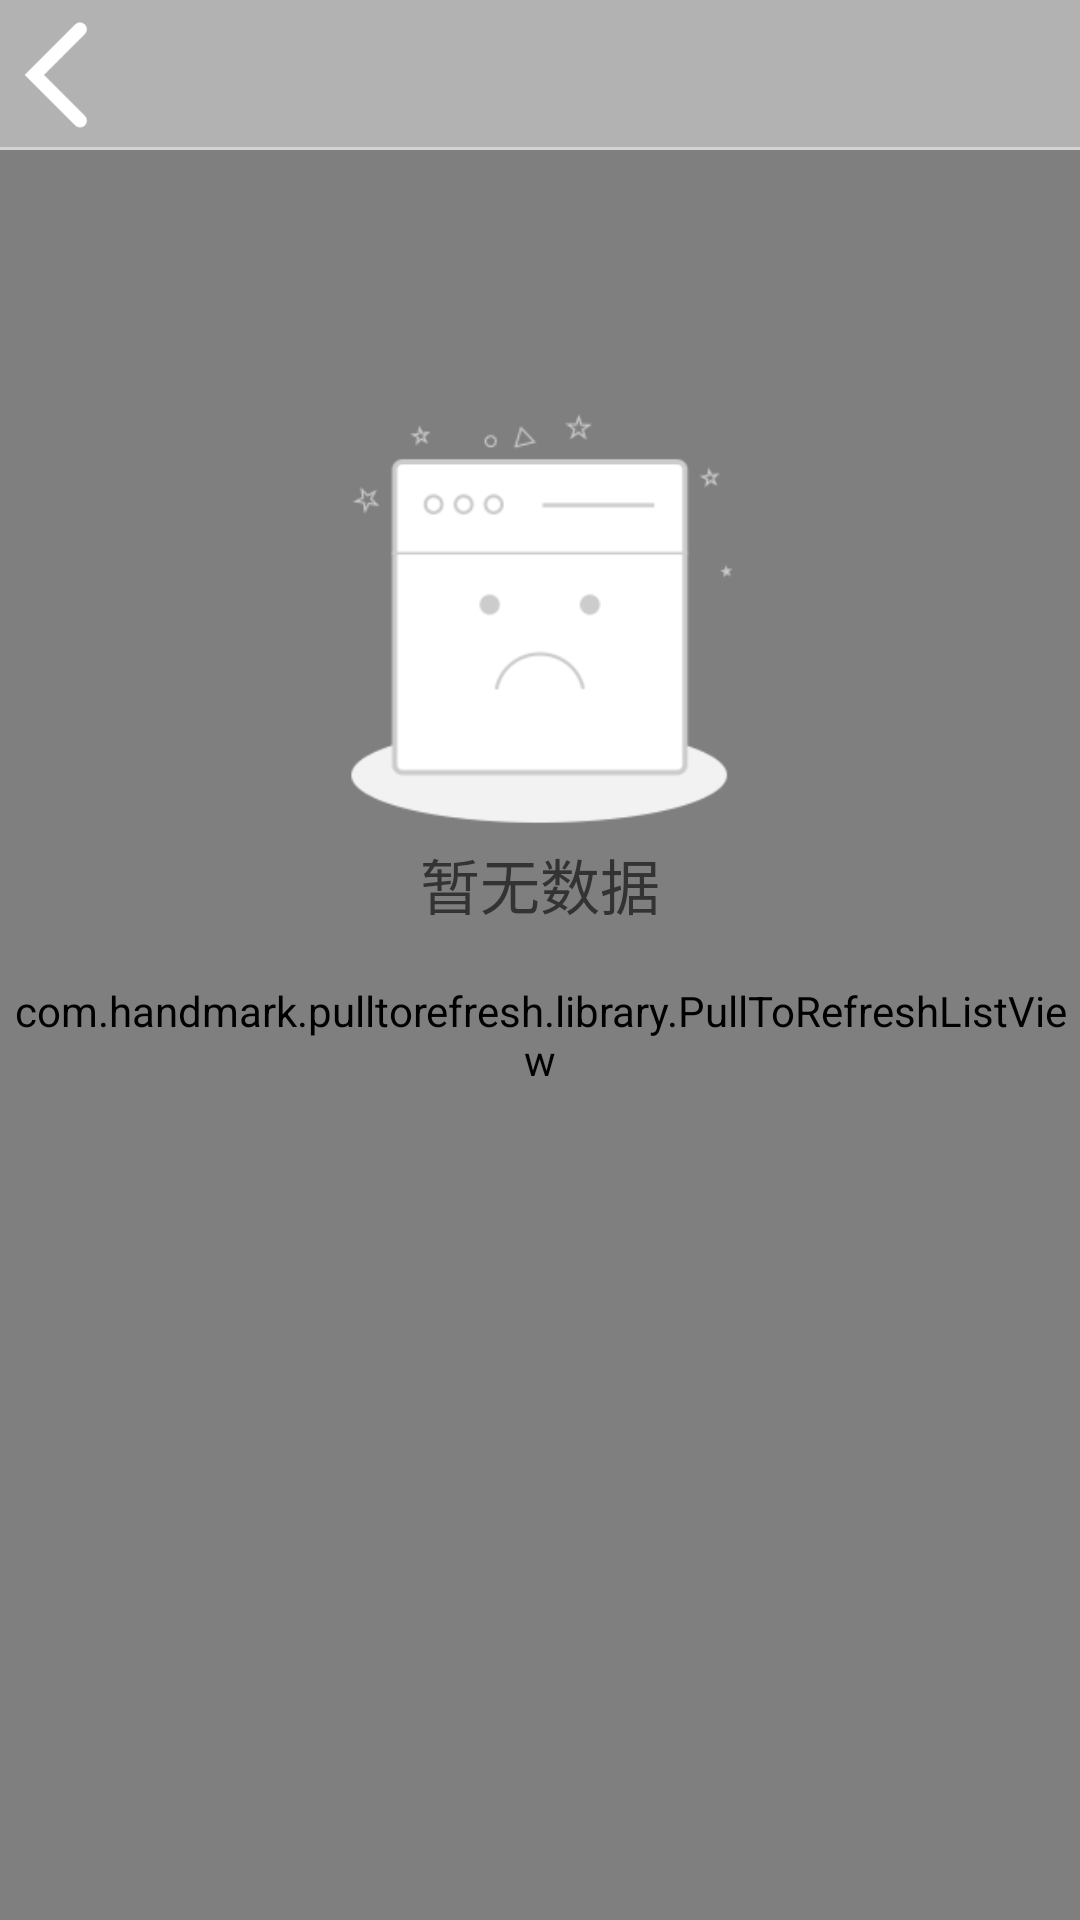

Where icons sit on this 1080×1920 app screen, as detection(x1, y1, x2, y2):
left: detection(25, 22, 87, 128)
